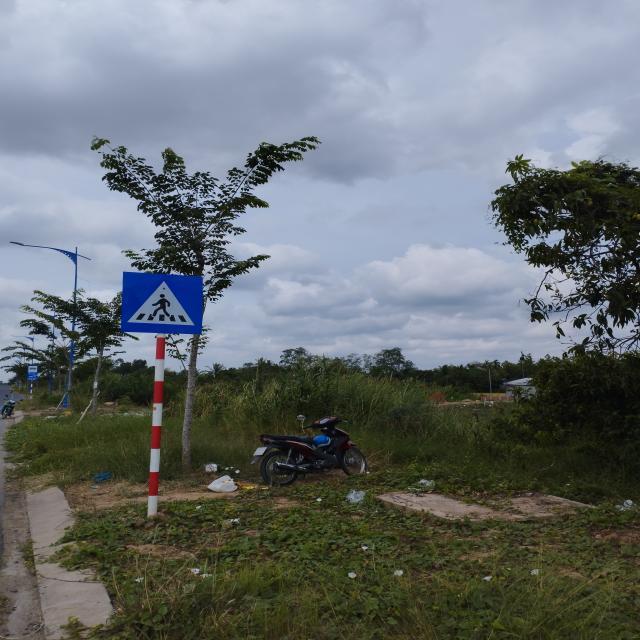Giao_Nhau_Duong_Uu_Tien: (121, 272, 202, 333)
